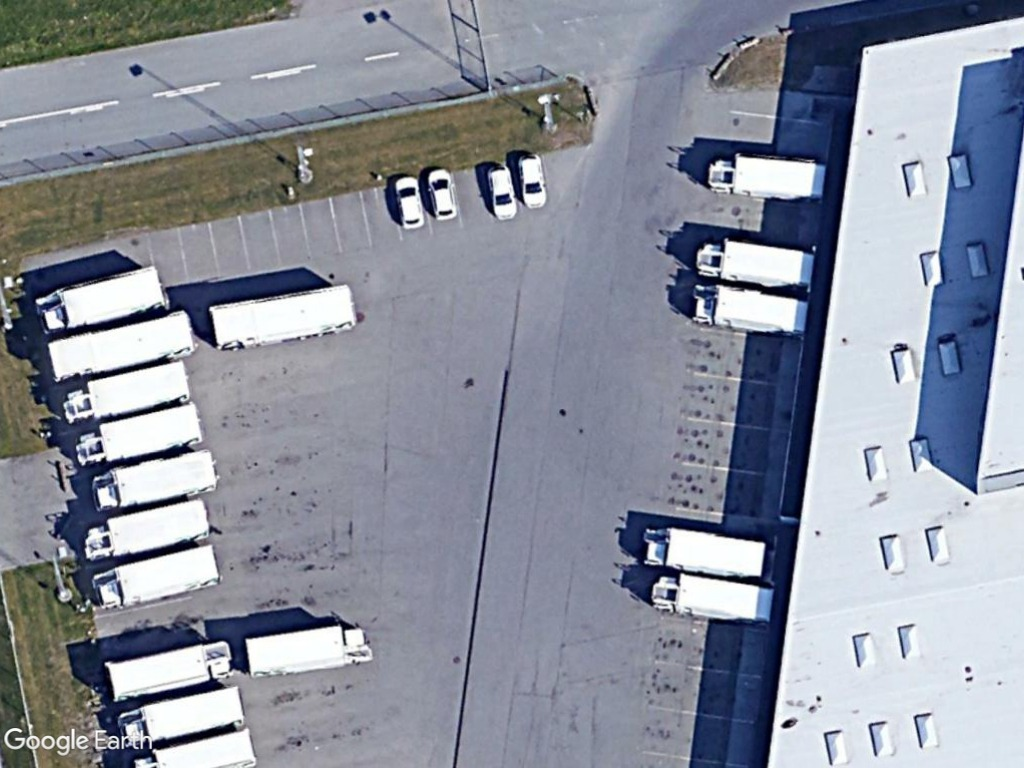car: (484, 162, 522, 223), (391, 171, 428, 233), (516, 149, 550, 213), (424, 166, 462, 222)
truck: (34, 261, 177, 338), (80, 492, 215, 570), (68, 398, 207, 473), (58, 357, 196, 431), (89, 441, 227, 515), (89, 540, 226, 612), (240, 613, 375, 683), (114, 683, 245, 752), (684, 276, 814, 342), (638, 523, 773, 583), (645, 566, 780, 623), (704, 147, 828, 204), (693, 236, 819, 288)
